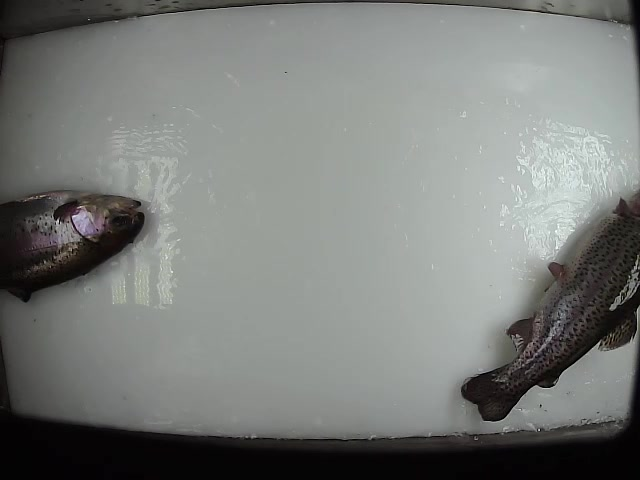fish: (459, 189, 640, 422), (1, 182, 146, 302)
